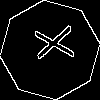X: (25, 25, 74, 63)
